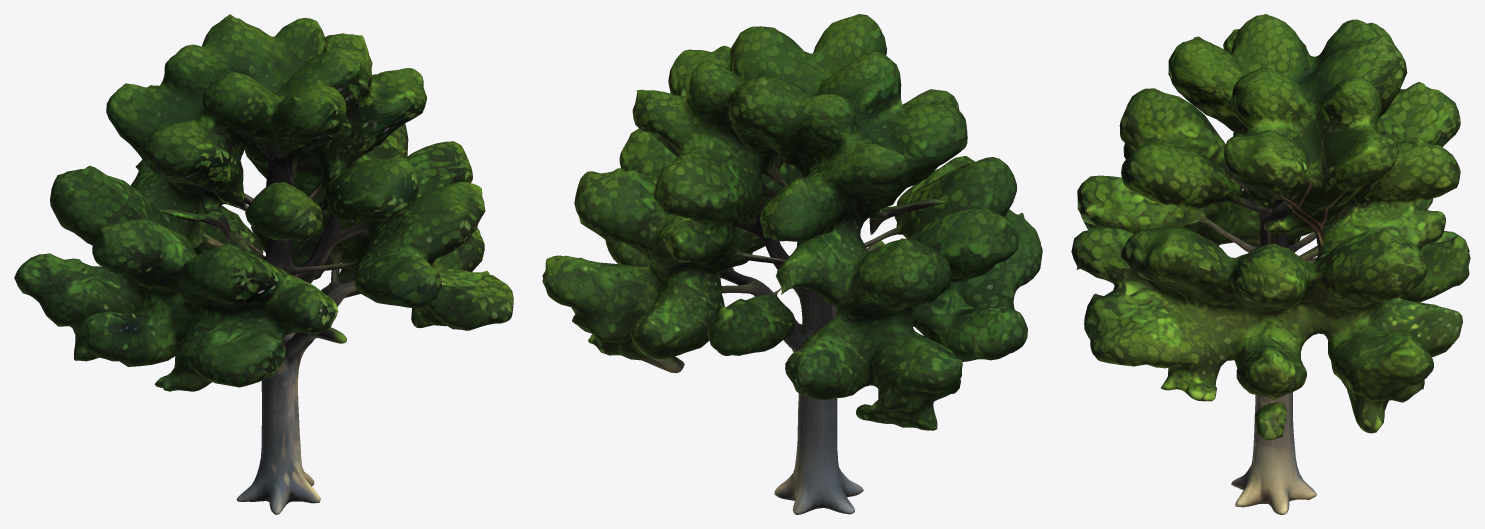
File: oak-tree.glb
3 views of the same model, side by side, from view 1: azimuth 30°, elevation 25°; view 2: azimuth 150°, elevation 25°; view 3: azimuth 270°, elevation 25° (orthographic). The views are drawn at different scales.
Visible parts, largest first — view 1: model; view 2: model; view 3: model.
Boxes of the visible parts, x1=… form: model: x1=14, y1=14, x2=513, y2=514; model: x1=542, y1=14, x2=1042, y2=514; model: x1=1071, y1=14, x2=1470, y2=514.
Size of the model in its own units: 1.66 by 1.77 by 1.38.
Materials: 1 (1 with a texture image).
